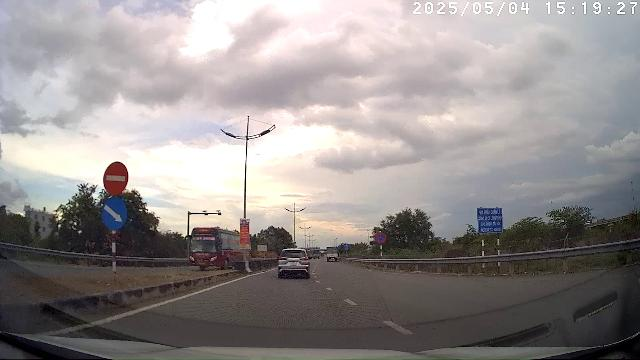102-cam-di-nguoc-chieu: (102, 160, 129, 196)
130-cam-dung-va-do-xe: (375, 232, 387, 244)
302a-huong-phai-di-vong-chuong-ngai-vat-1: (101, 196, 127, 230)
